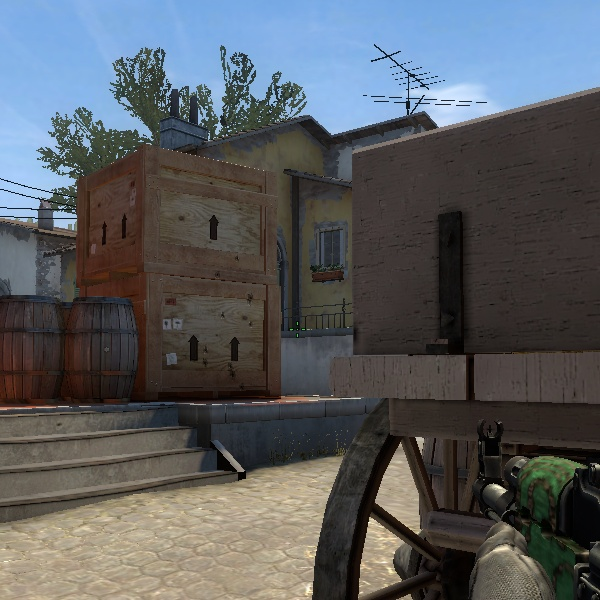t_head: (570, 434, 598, 505)
